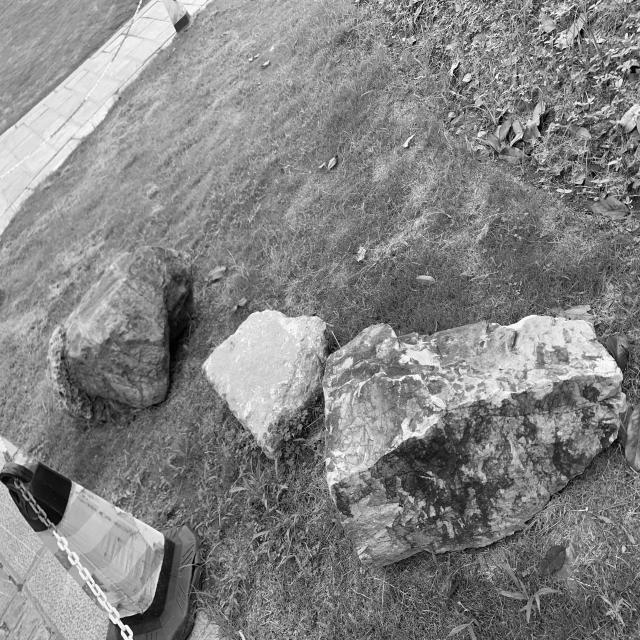Stone: (323, 315, 625, 566), (42, 237, 204, 422), (202, 310, 328, 458)
